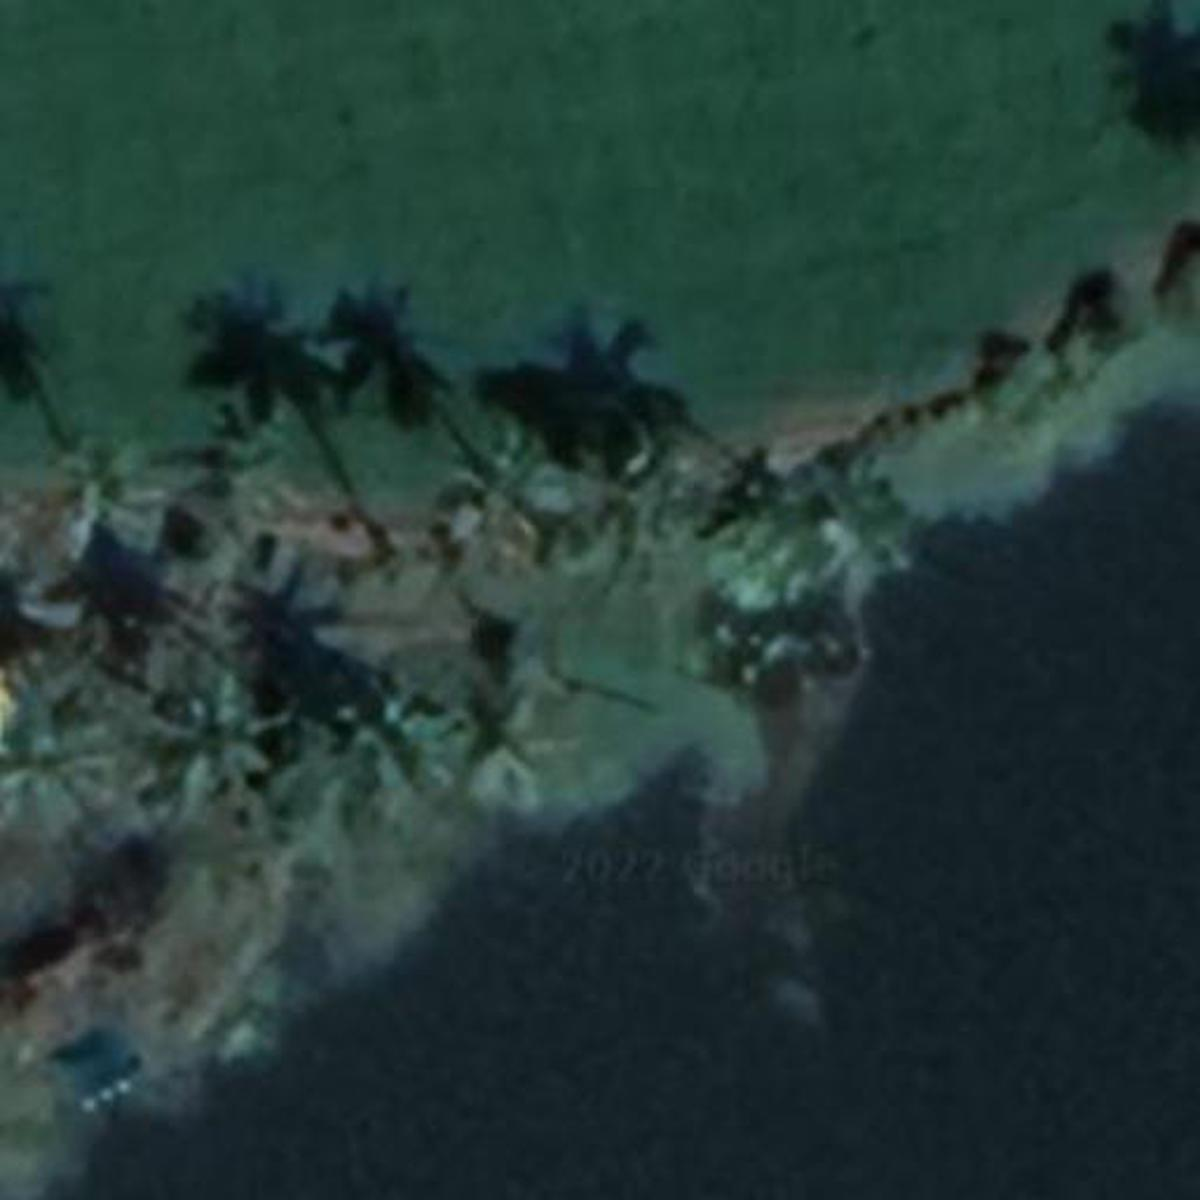coconut: (32, 426, 185, 576), (567, 427, 700, 588), (323, 693, 473, 827), (442, 673, 567, 822), (149, 677, 278, 816), (438, 433, 564, 569), (7, 691, 124, 827), (792, 478, 923, 597), (208, 424, 309, 522)
